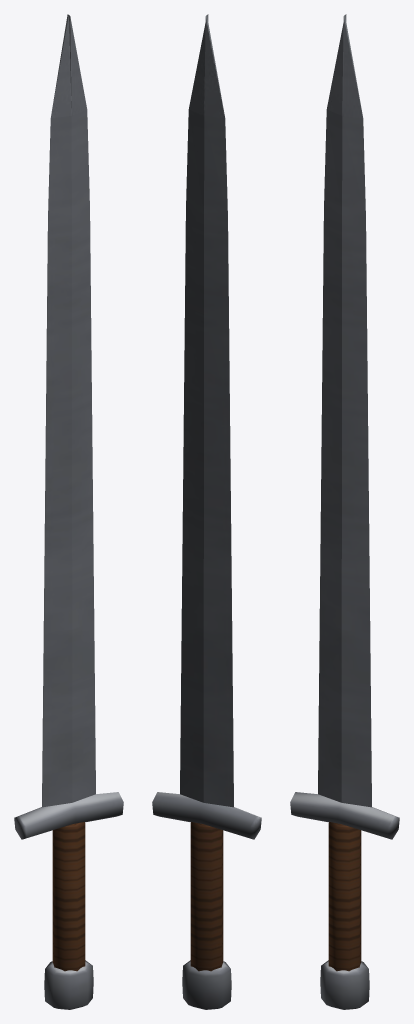
Rendered from epee-celte.glb.
3 renders of one model, left to right at view 1: azimuth 30°, elevation 25°; view 2: azimuth 150°, elevation 25°; view 3: azimuth 330°, elevation 25°, orthographic.
Visible parts, largest first — view 1: epee-celte; view 2: epee-celte; view 3: epee-celte.
Boxes of the visible parts, box(x1,y1,x2,y2) form: epee-celte: box(14, 14, 123, 1009); epee-celte: box(152, 14, 261, 1009); epee-celte: box(290, 14, 399, 1009).
Bounding box in the file's own units: 0.1024 × 0.975 × 0.0371.
1 material, 1 textured.
